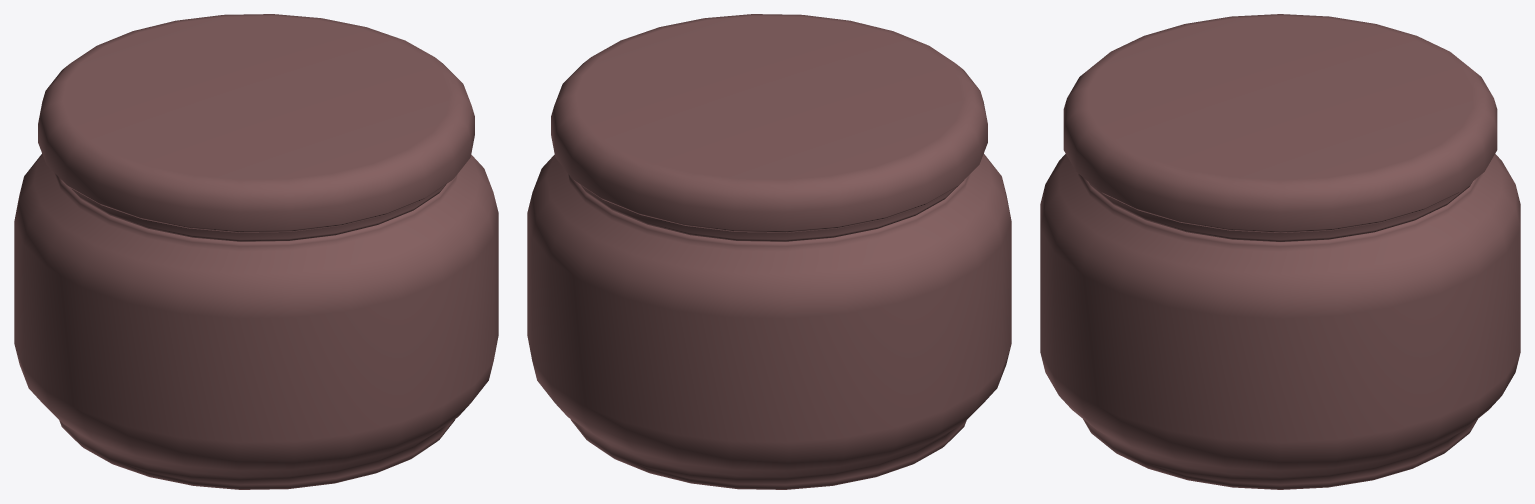
Rendered from Prop_Jar_02.fbx.
The picture shows the model from 3 angles, left to right: view 1: azimuth 30°, elevation 25°; view 2: azimuth 150°, elevation 25°; view 3: azimuth 270°, elevation 25°; orthographic projection.
Visible parts, largest first — view 1: Env_Jar2, Env_Jar2Cover; view 2: Env_Jar2, Env_Jar2Cover; view 3: Env_Jar2, Env_Jar2Cover.
Part boxes in pixels (x1=…): Env_Jar2: x1=14, y1=153, x2=498, y2=489; Env_Jar2Cover: x1=38, y1=14, x2=474, y2=241; Env_Jar2: x1=527, y1=153, x2=1011, y2=489; Env_Jar2Cover: x1=551, y1=14, x2=987, y2=241; Env_Jar2: x1=1040, y1=154, x2=1520, y2=489; Env_Jar2Cover: x1=1063, y1=14, x2=1497, y2=241.
Bounding box in the file's own units: 23.89 × 16.82 × 23.72.
